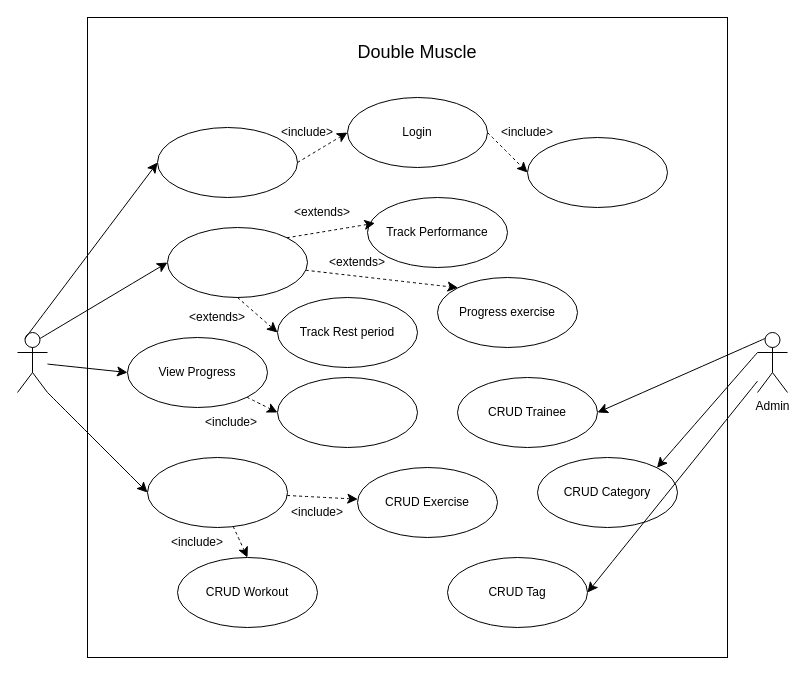
Image size: 807x675. Some labels were removed from this diagram. The shapes that lost their labels are listed below. From the top down, each one's centre as x and y in pixels, then its label:
pixel 227 162: Check Schedule
pixel 597 172: Verify Identity
pixel 237 262: Perform Exercise
pixel 32 362: User
pixel 347 412: Chart Progress
pixel 217 492: Create Workout Plan
